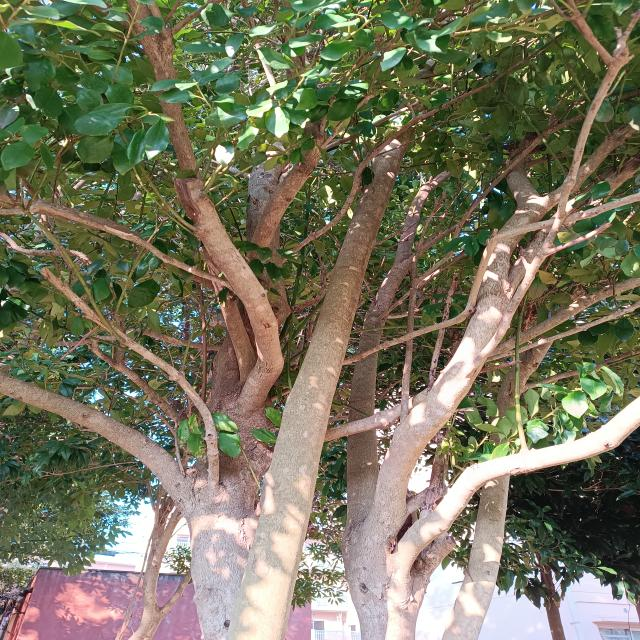Branch: (230, 145, 398, 640), (372, 138, 543, 513), (129, 0, 284, 409), (390, 399, 640, 573), (0, 371, 183, 516), (245, 103, 328, 263), (543, 124, 639, 211)
Twig: (282, 32, 563, 259), (462, 1, 622, 377), (399, 115, 583, 425), (343, 193, 639, 364), (41, 265, 221, 489), (0, 189, 231, 287), (53, 336, 181, 425), (549, 223, 611, 256)
